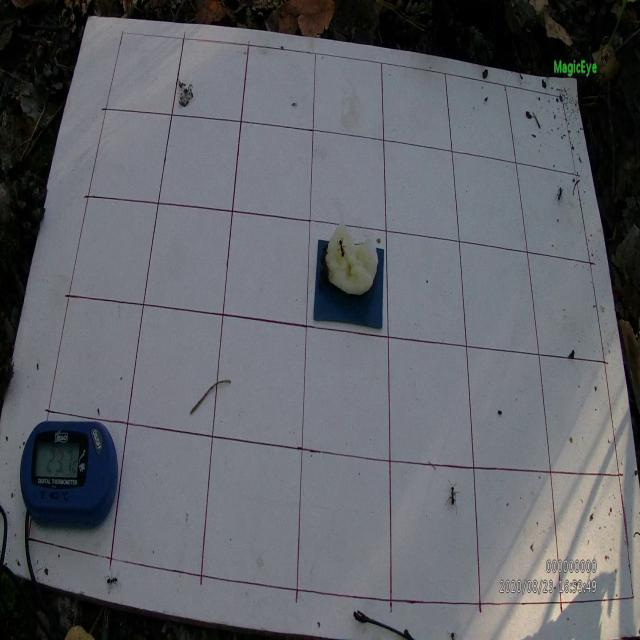Ant: (447, 479, 457, 514), (104, 570, 118, 594), (337, 237, 346, 258), (554, 186, 563, 202)
